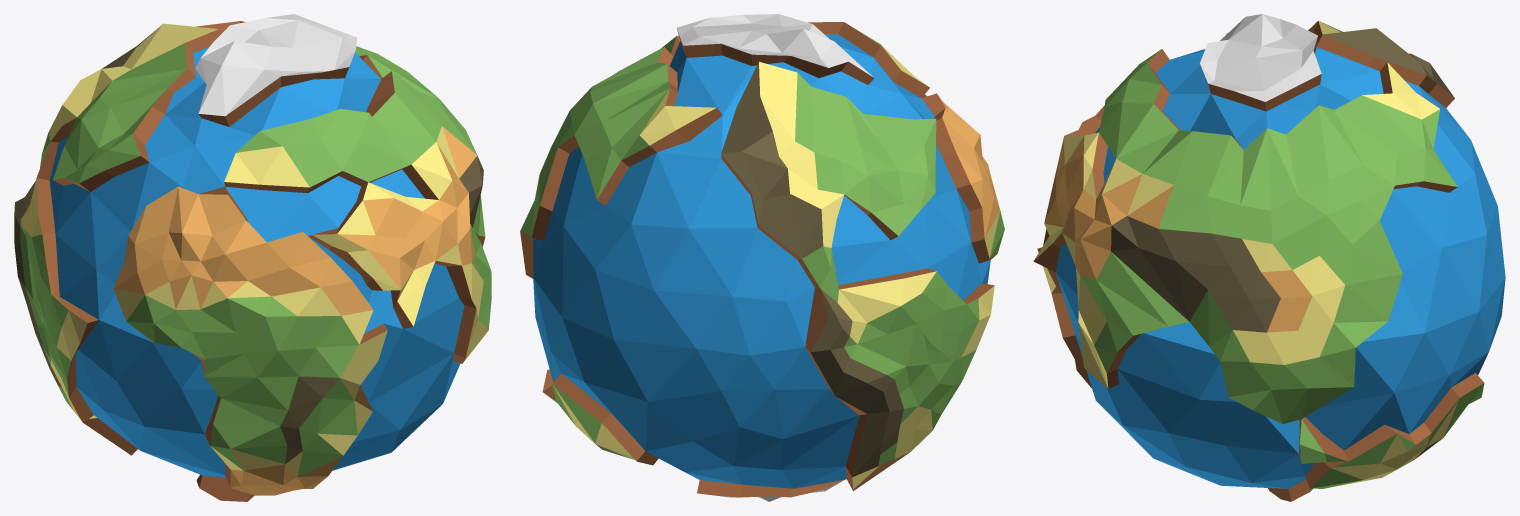
The model's file is earth.glb.
3 renders of one model, left to right at view 1: azimuth 30°, elevation 25°; view 2: azimuth 150°, elevation 25°; view 3: azimuth 270°, elevation 25°, orthographic. The views are drawn at different scales.
Visible parts, largest first — view 1: Icosphere; view 2: Icosphere; view 3: Icosphere.
Boxes of the visible parts, box(x1,y1,x2,y2) form: Icosphere: box(14, 14, 491, 501); Icosphere: box(520, 14, 1004, 501); Icosphere: box(1033, 14, 1505, 501).
Size of the model in its own units: 10.61 by 11.28 by 10.49.
